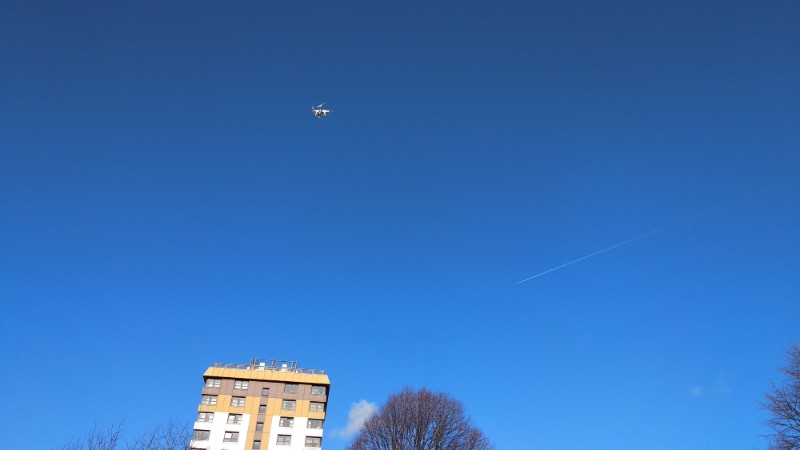drone: (310, 100, 331, 120)
